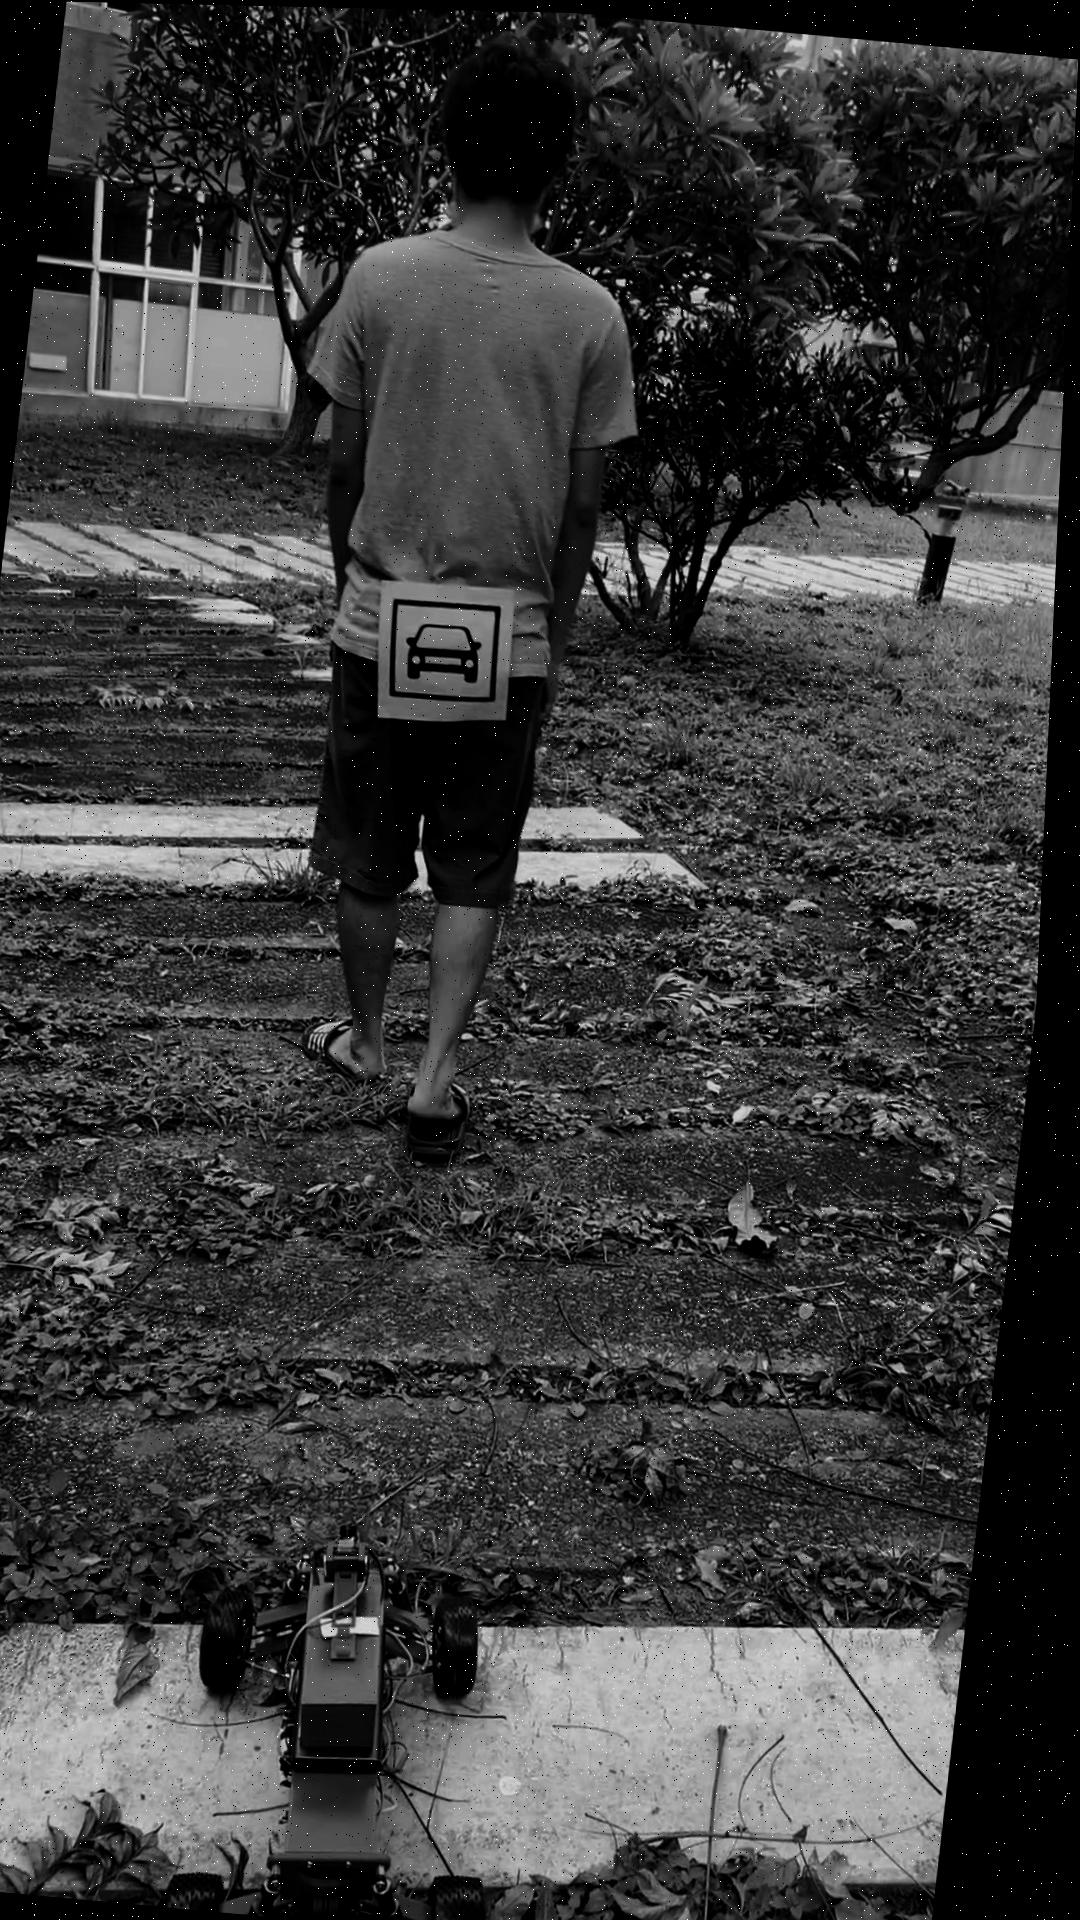car_img: (388, 593, 512, 704)
